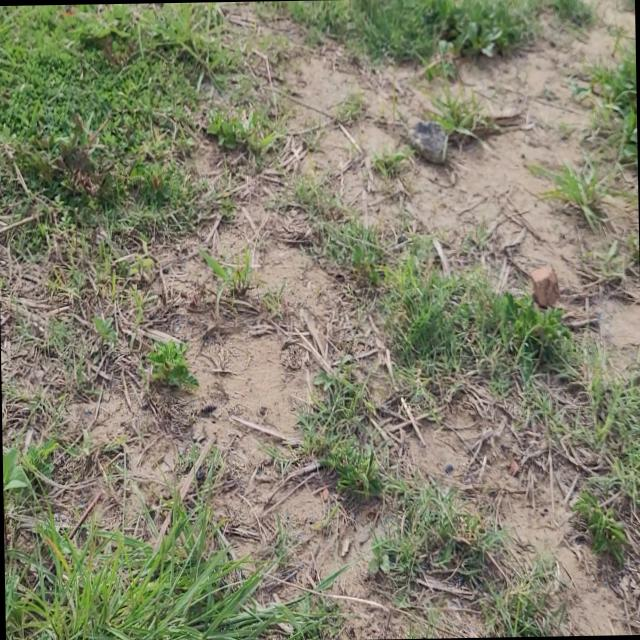grass: (0, 2, 284, 640), (300, 262, 640, 637), (270, 0, 540, 61), (571, 41, 637, 169)
white-sand: (151, 1, 619, 532), (63, 388, 185, 495)
